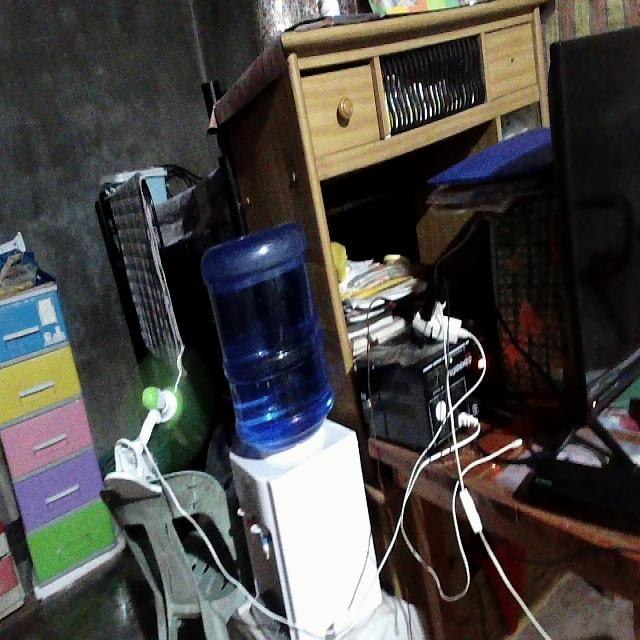-: (393, 283, 466, 345)
